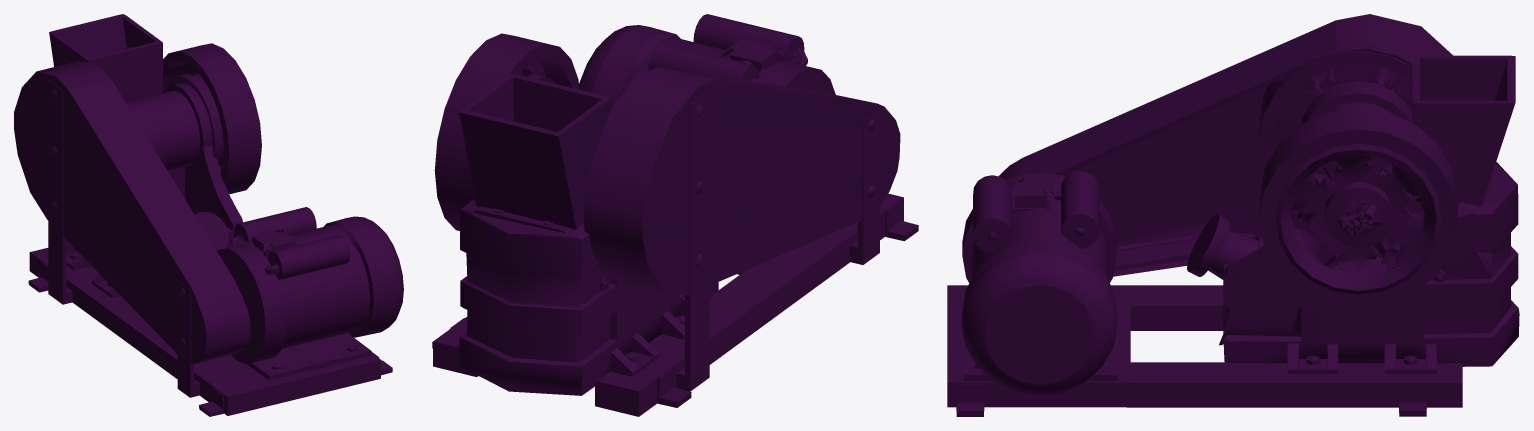
Rendered from cage01.obj.
3 views of the same model, side by side, from view 1: azimuth 30°, elevation 25°; view 2: azimuth 150°, elevation 25°; view 3: azimuth 270°, elevation 25° (orthographic). The views are drawn at different scales.
Parts seen in each view (by area): view 1: polySurface436; view 2: polySurface436; view 3: polySurface436.
Part boxes in pixels (x1,y1,x2,y2): polySurface436: (14,14,403,416); polySurface436: (432,14,918,416); polySurface436: (947,14,1519,416).
Bounding box in the file's own units: 5.8 × 6.05 × 10.81.
